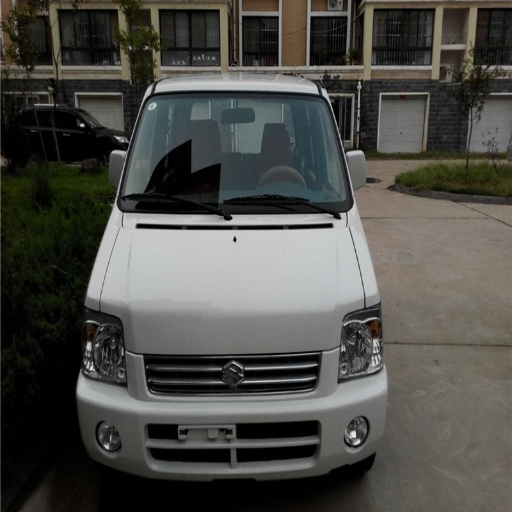front_bumper: (76, 347, 390, 479)
front_right_light: (82, 308, 127, 386)
hood: (99, 212, 366, 350)
